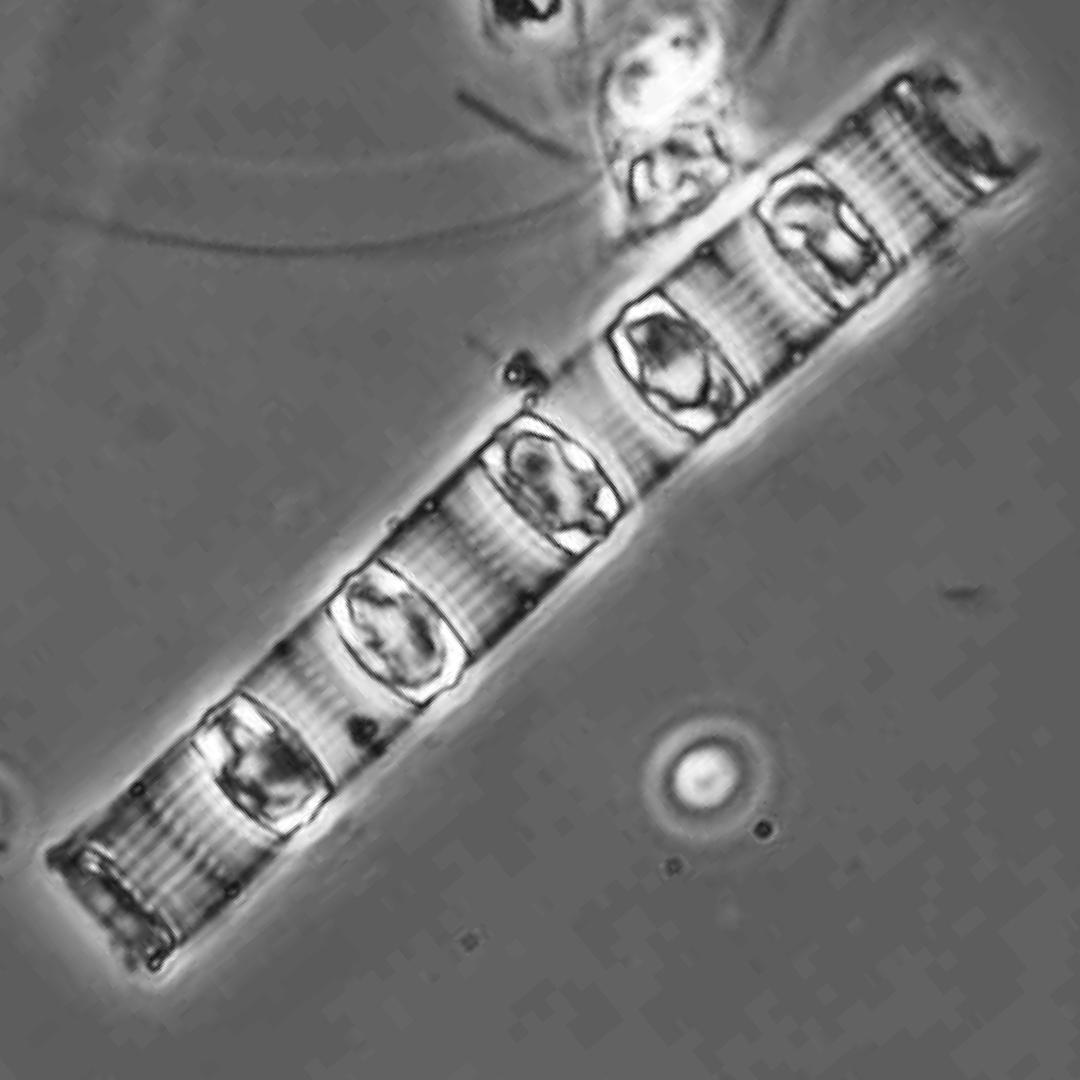skeletonema_costatum: (44, 71, 1013, 975)
